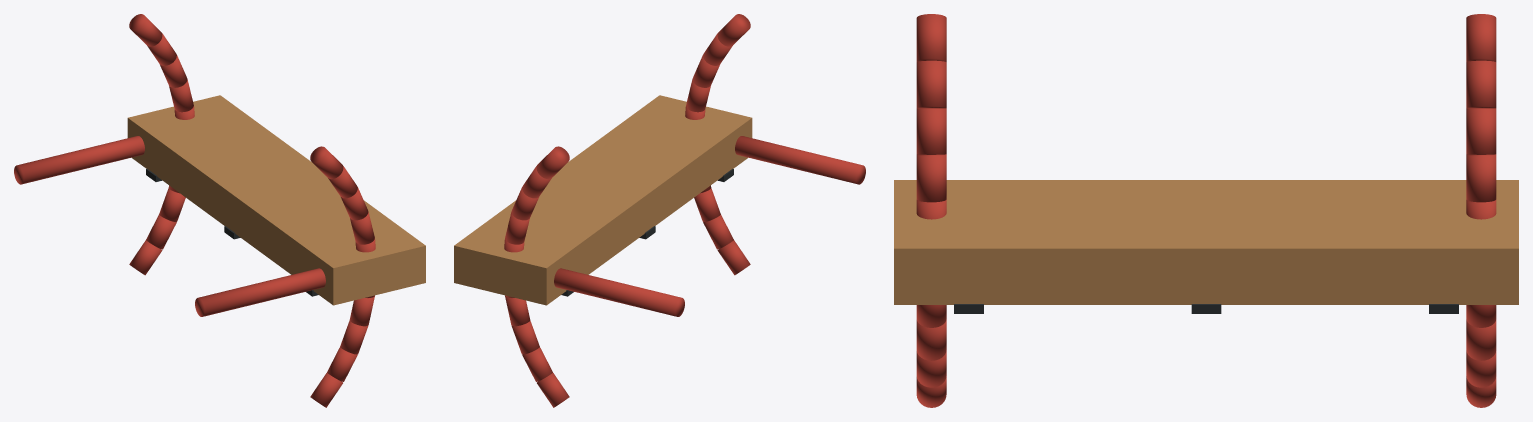
File: paddlewheel-quarter.glb
3 views of the same model, side by side, from view 1: azimuth 30°, elevation 25°; view 2: azimuth 150°, elevation 25°; view 3: azimuth 270°, elevation 25° (orthographic). The views are drawn at different scales.
Parts seen in each view (by area): view 1: Paddle / teak flight, Wheel spoke.001, Wheel spoke, Wheel iron rim.019, Wheel iron rim.009, Wheel iron rim, Wheel iron rim.010, Wheel iron rim.001, Wheel iron rim.011, Wheel iron rim.012, Wheel iron rim.002, Wheel iron rim.013 (+6 smaller); view 2: Paddle / teak flight, Wheel spoke, Wheel spoke.001, Wheel iron rim.009, Wheel iron rim.019, Wheel iron rim.010, Wheel iron rim, Wheel iron rim.011, Wheel iron rim.001, Wheel iron rim.002, Wheel iron rim.012, Wheel iron rim.003 (+6 smaller); view 3: Paddle / teak flight, Wheel iron rim.008, Wheel iron rim.018, Wheel iron rim.006, Wheel iron rim.016, Wheel iron rim.007, Wheel iron rim.017, Wheel iron rim.009, Wheel iron rim.019, Wheel iron rim.002, Wheel iron rim.012, Wheel iron rim.001 (+5 smaller).
Boxes of the visible parts, x1=… form: Paddle / teak flight: x1=127, y1=95, x2=425, y2=305; Wheel spoke.001: x1=195, y1=268, x2=325, y2=316; Wheel spoke: x1=14, y1=136, x2=144, y2=184; Wheel iron rim.019: x1=310, y1=146, x2=343, y2=179; Wheel iron rim.009: x1=129, y1=14, x2=162, y2=46; Wheel iron rim: x1=129, y1=240, x2=162, y2=275; Wheel iron rim.010: x1=310, y1=373, x2=342, y2=407; Wheel iron rim.001: x1=146, y1=215, x2=176, y2=249; Wheel iron rim.011: x1=327, y1=347, x2=357, y2=381; Wheel iron rim.012: x1=340, y1=320, x2=368, y2=354; Wheel iron rim.002: x1=159, y1=188, x2=185, y2=221; Wheel iron rim.013: x1=349, y1=296, x2=374, y2=326; Paddle / teak flight: x1=454, y1=95, x2=752, y2=305; Wheel spoke: x1=554, y1=268, x2=684, y2=316; Wheel spoke.001: x1=735, y1=136, x2=865, y2=184; Wheel iron rim.009: x1=536, y1=146, x2=569, y2=179; Wheel iron rim.019: x1=717, y1=14, x2=750, y2=46; Wheel iron rim.010: x1=717, y1=240, x2=750, y2=275; Wheel iron rim: x1=537, y1=373, x2=569, y2=407; Wheel iron rim.011: x1=703, y1=215, x2=733, y2=249; Wheel iron rim.001: x1=522, y1=347, x2=552, y2=381; Wheel iron rim.002: x1=511, y1=320, x2=539, y2=354; Wheel iron rim.012: x1=694, y1=188, x2=720, y2=221; Wheel iron rim.003: x1=505, y1=296, x2=530, y2=326; Paddle / teak flight: x1=894, y1=180, x2=1518, y2=304; Wheel iron rim.008: x1=1466, y1=60, x2=1496, y2=108; Wheel iron rim.018: x1=916, y1=60, x2=946, y2=108; Wheel iron rim.006: x1=1466, y1=154, x2=1496, y2=202; Wheel iron rim.016: x1=916, y1=154, x2=946, y2=202; Wheel iron rim.007: x1=1466, y1=108, x2=1496, y2=154; Wheel iron rim.017: x1=916, y1=108, x2=946, y2=154; Wheel iron rim.009: x1=1466, y1=14, x2=1496, y2=61; Wheel iron rim.019: x1=916, y1=14, x2=946, y2=61; Wheel iron rim.002: x1=1466, y1=319, x2=1496, y2=360; Wheel iron rim.012: x1=916, y1=319, x2=946, y2=360; Wheel iron rim.001: x1=1466, y1=350, x2=1496, y2=387.
Bounding box in the file's own units: 0.302 × 0.3479 × 0.5.
